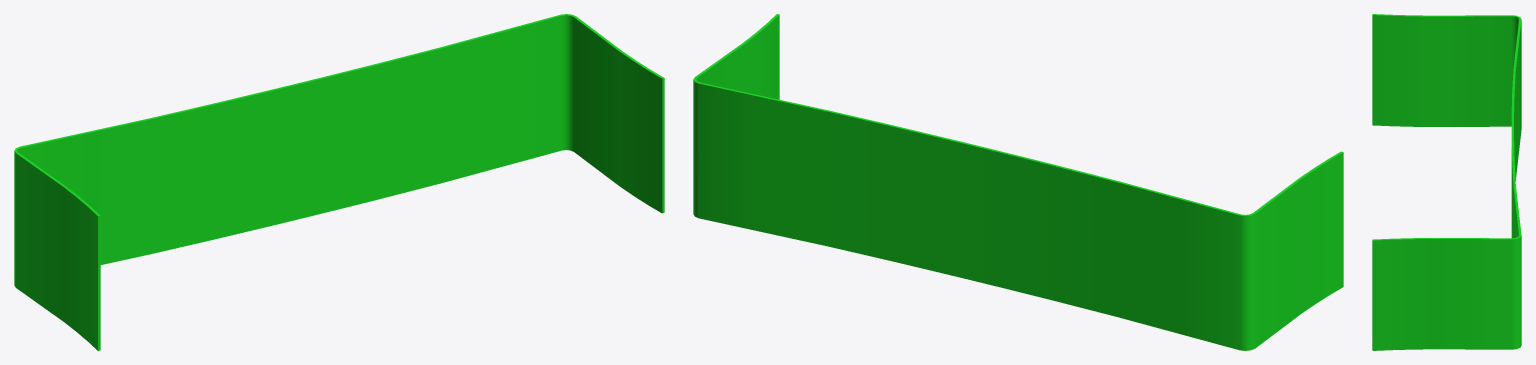
File: coffee_table_2.FBX
3 views of the same model, side by side, from view 1: azimuth 30°, elevation 25°; view 2: azimuth 150°, elevation 25°; view 3: azimuth 270°, elevation 25° (orthographic). The views are drawn at different scales.
Parts seen in each view (by area): view 1: coffee_table_2; view 2: coffee_table_2; view 3: coffee_table_2.
Boxes of the visible parts, box(x1,y1,x2,y2) form: coffee_table_2: box(14, 14, 664, 350); coffee_table_2: box(693, 14, 1343, 350); coffee_table_2: box(1372, 14, 1521, 350).
Size of the model in its own units: 152 by 34.58 by 42.34.
